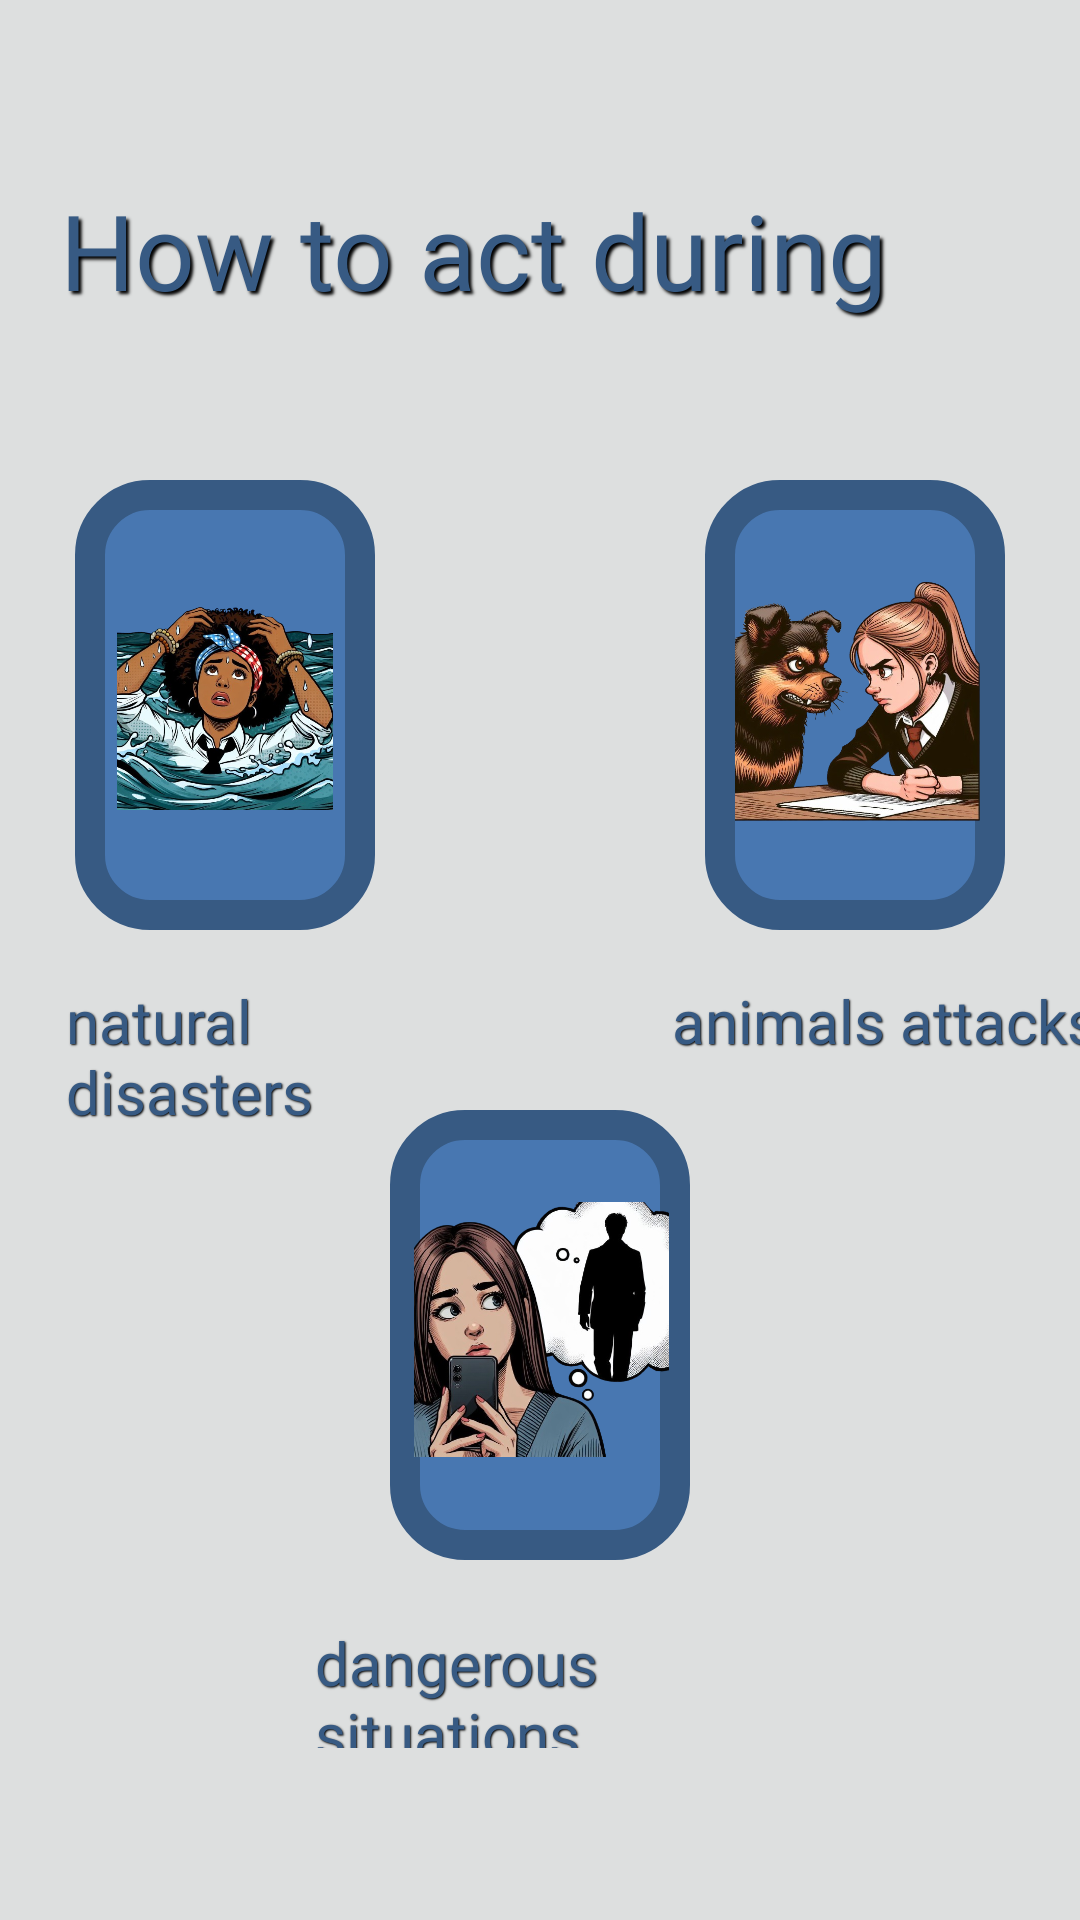

Locate icon controls on the screen. Image size 1080x1920, boxes as (x1, y1, x2, y2).
girl dog: (735, 522, 980, 876)
